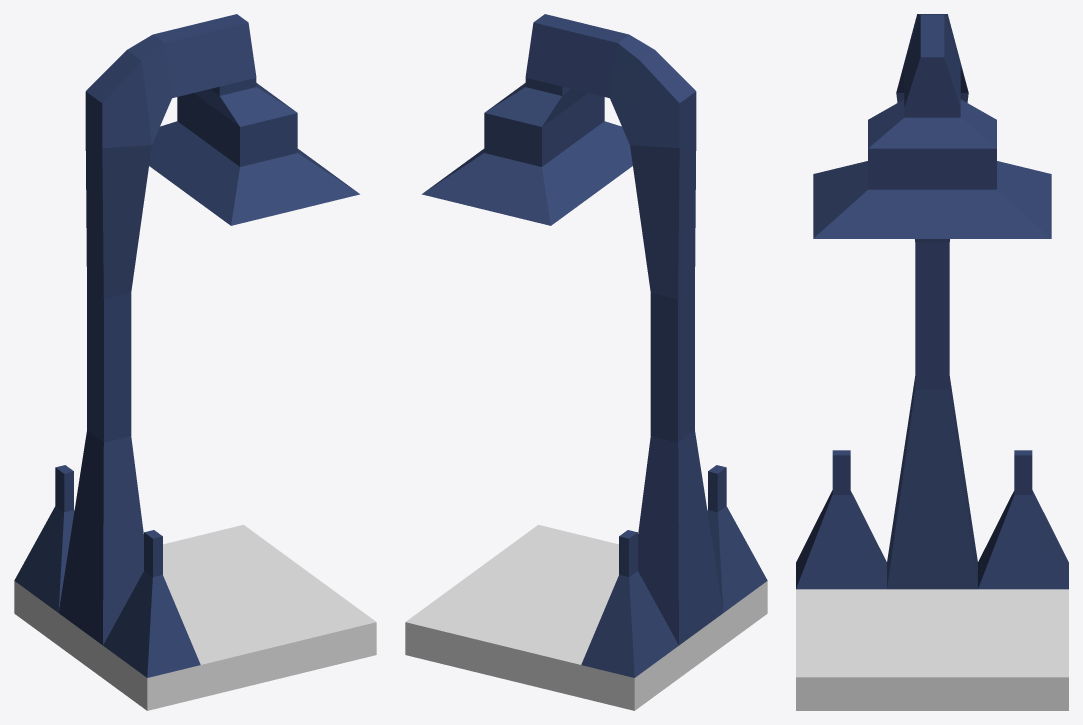
The model's file is CheckpointModel.fbx.
3 views of the same model, side by side, from view 1: azimuth 30°, elevation 25°; view 2: azimuth 150°, elevation 25°; view 3: azimuth 270°, elevation 25° (orthographic). The views are drawn at different scales.
Parts seen in each view (by area): view 1: Cube; view 2: Cube; view 3: Cube.
Part boxes in pixels (box(x1,y1,x2,y2)): Cube: box(14, 14, 376, 710); Cube: box(405, 14, 767, 710); Cube: box(796, 14, 1068, 710).
Size of the model in its own units: 199 by 501 by 200.
